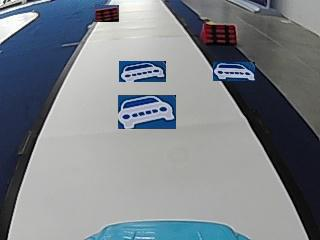bomb: (199, 22, 237, 44)
